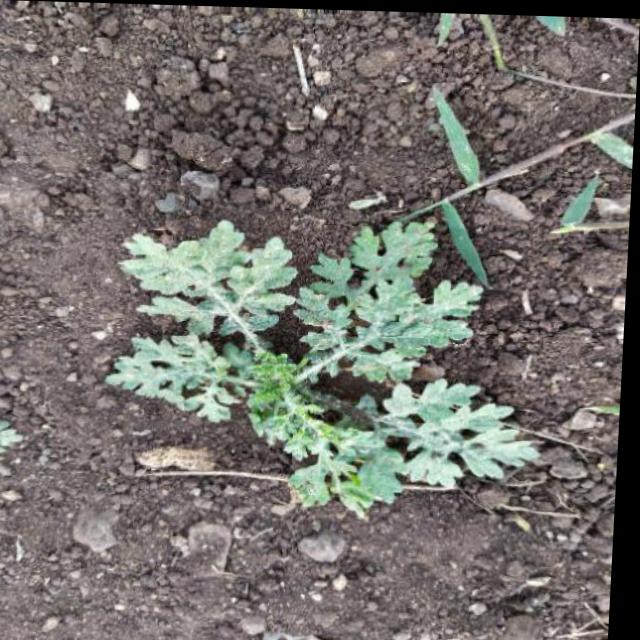weed: (91, 186, 576, 520)
